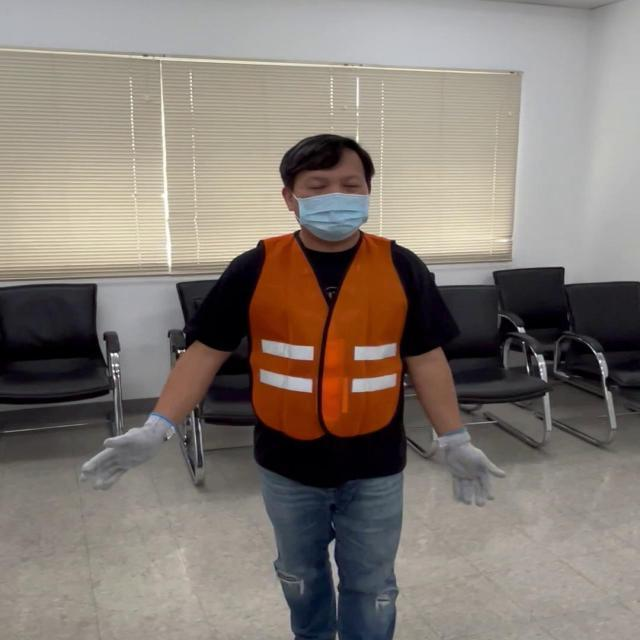gloved_hand: (86, 405, 193, 496), (436, 428, 501, 506)
